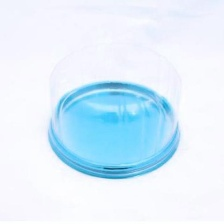plastic_box: (36, 34, 190, 186)
